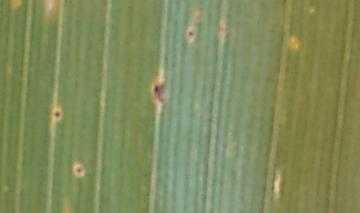tarspot: (153, 81, 165, 102), (53, 109, 61, 119), (75, 166, 82, 174), (187, 29, 195, 36)
